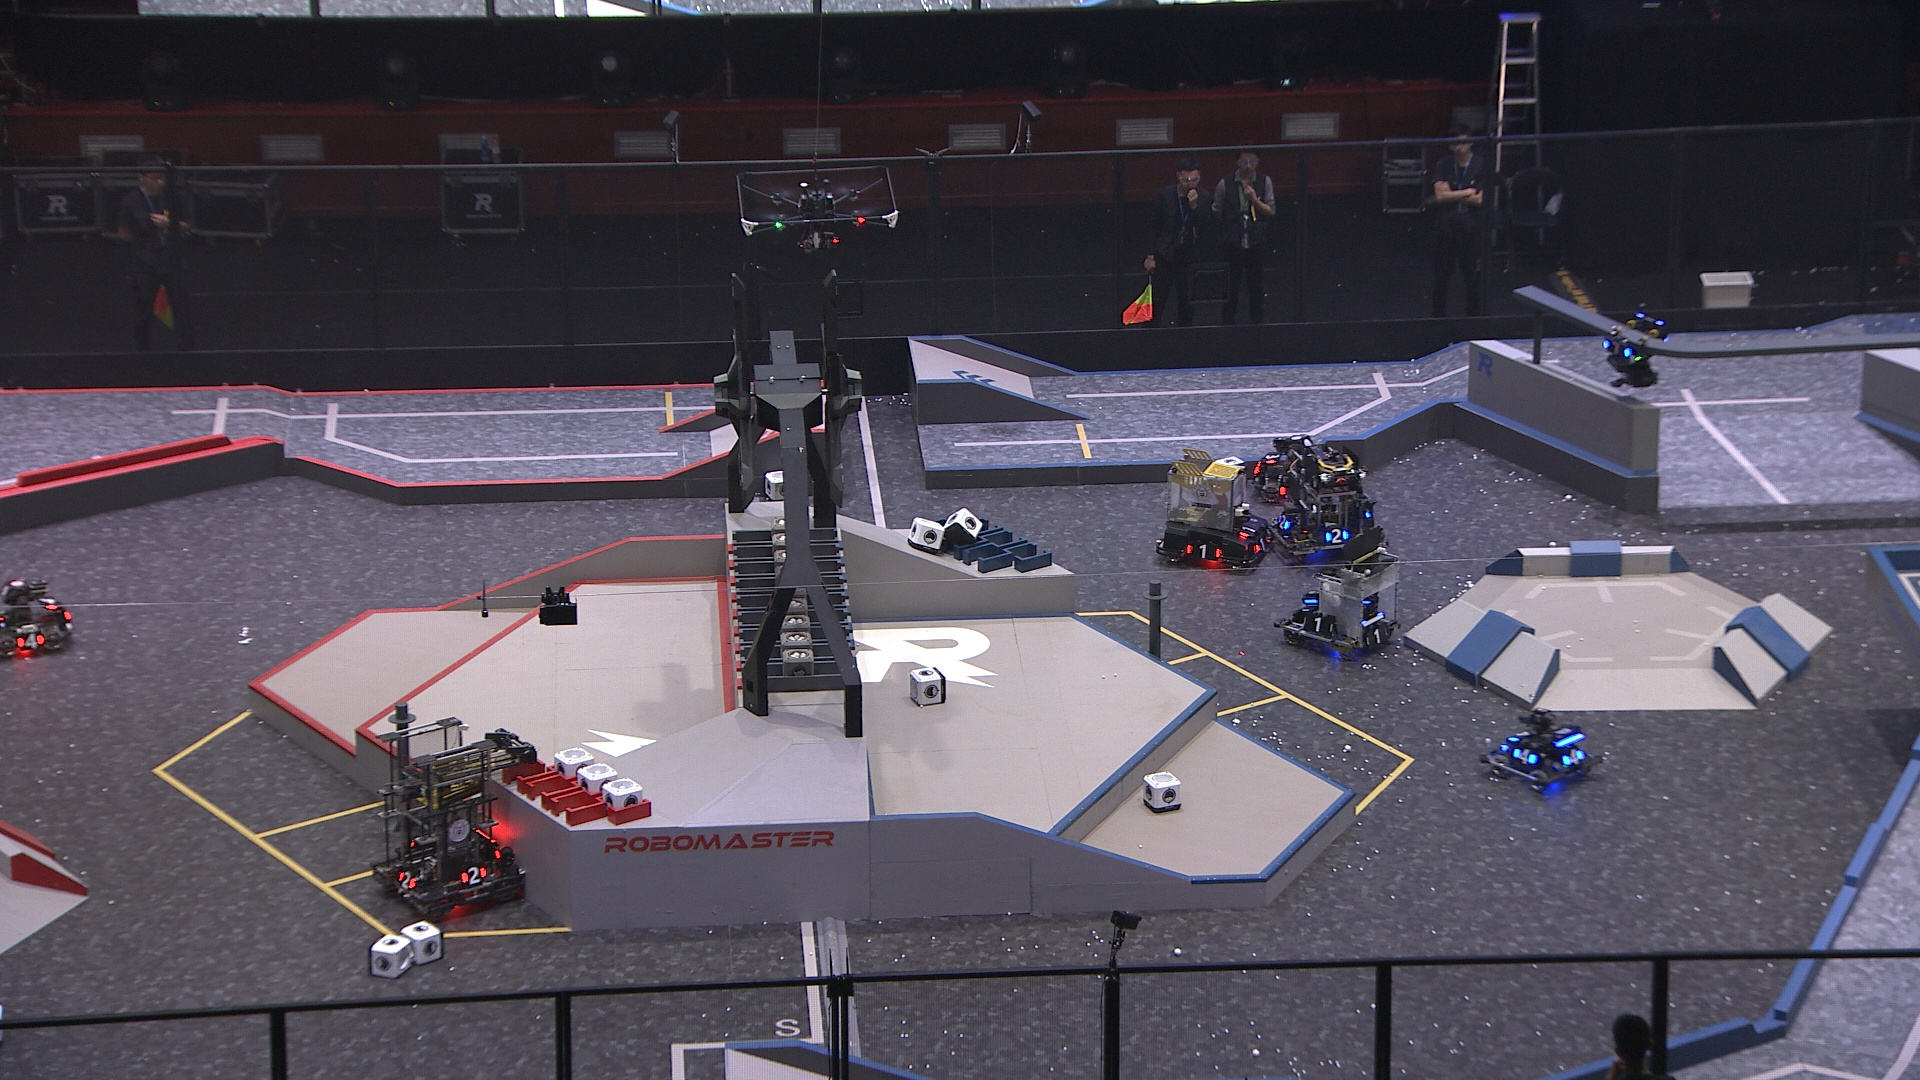armor: (1602, 335, 1633, 363), (1185, 541, 1222, 560), (1513, 746, 1542, 769), (458, 864, 489, 884), (1305, 617, 1333, 638), (1251, 531, 1273, 556), (17, 632, 44, 651), (1366, 626, 1391, 646), (1302, 597, 1320, 622), (398, 869, 417, 893), (1513, 727, 1534, 746), (1273, 513, 1291, 535), (1325, 527, 1349, 545), (1563, 746, 1584, 765), (40, 589, 58, 609), (1238, 518, 1257, 538), (1265, 448, 1278, 467)
car: (371, 716, 531, 928), (1150, 452, 1275, 574), (1266, 444, 1389, 567), (1284, 543, 1406, 659), (1480, 704, 1605, 796), (1249, 434, 1321, 505)
watcher: (1600, 309, 1673, 392)
